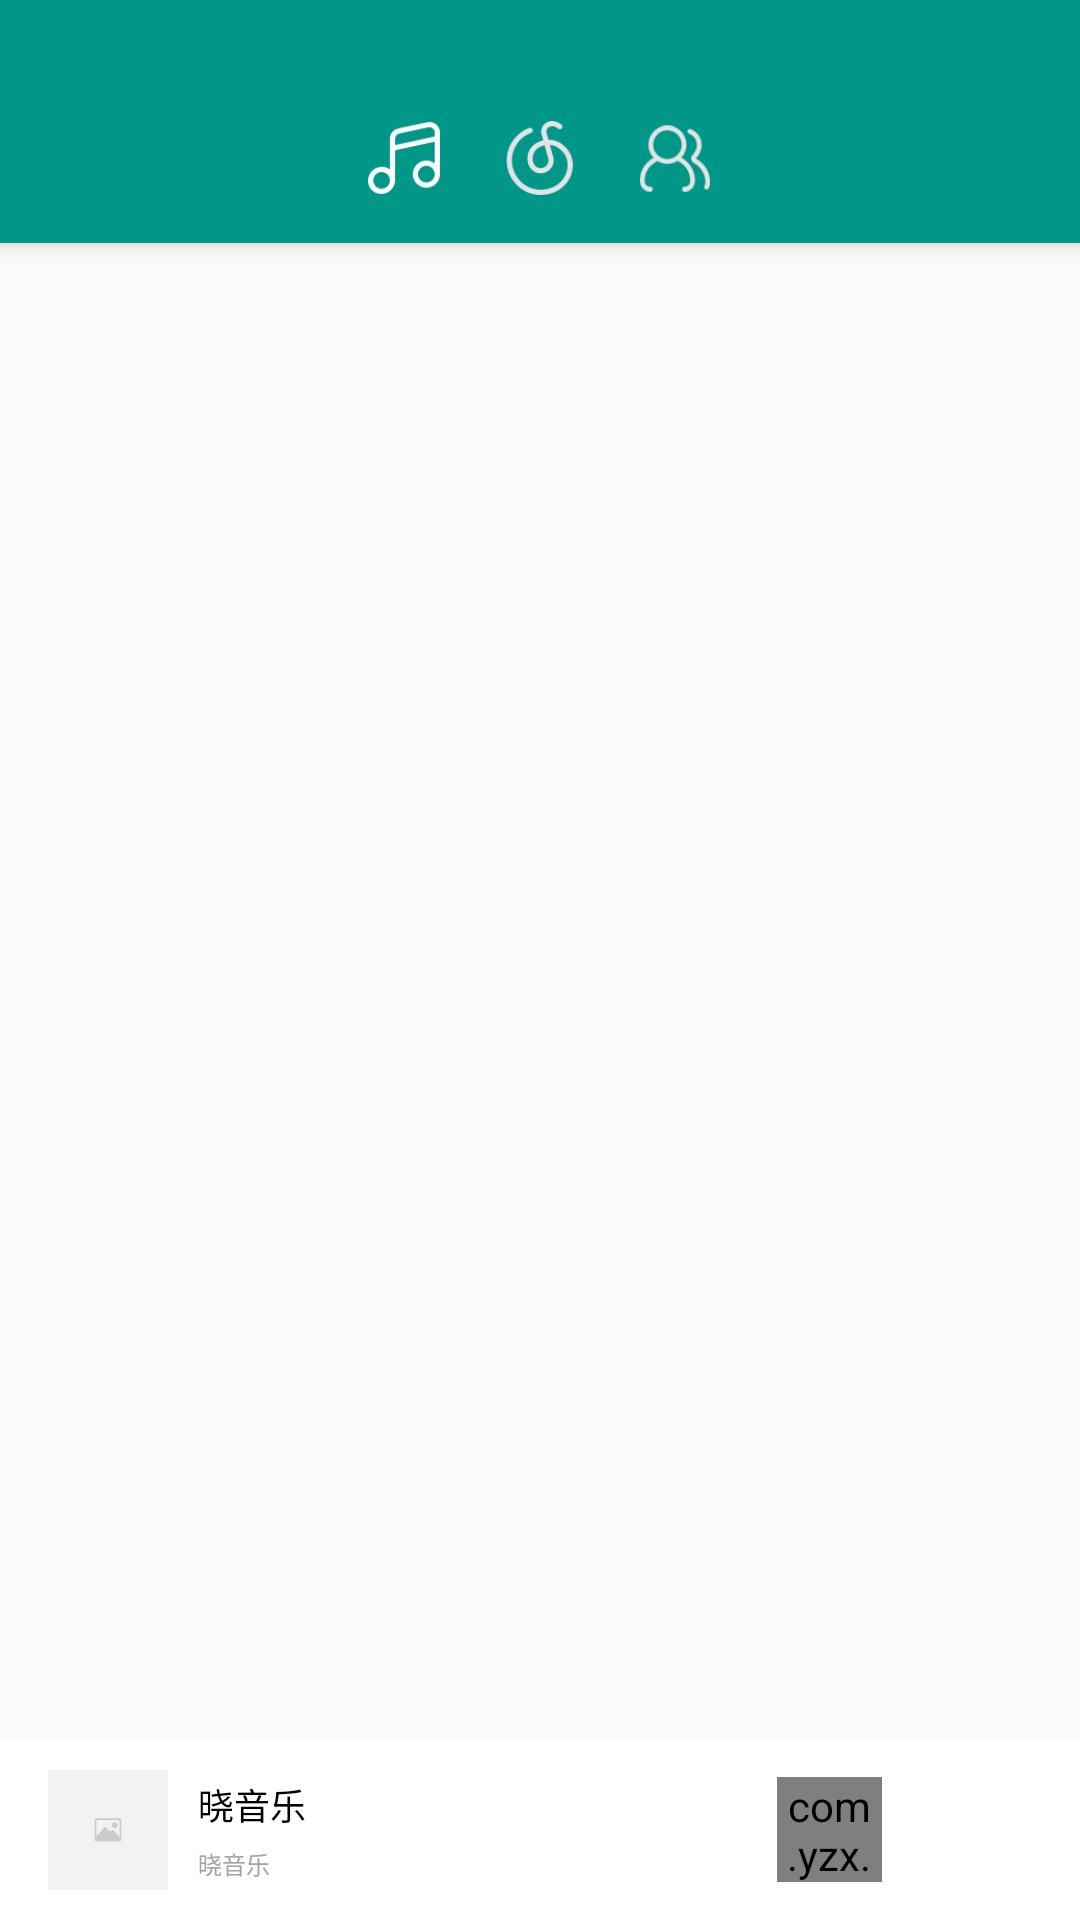

Icons on this 1080px×1920px Android screen, each with its box as [left=x1, top=y1, right=x2, bottom=y2]:
friends: [left=640, top=125, right=710, bottom=192]
muisc: [left=368, top=122, right=440, bottom=194]
zhanweitu: [left=94, top=1818, right=122, bottom=1842]
